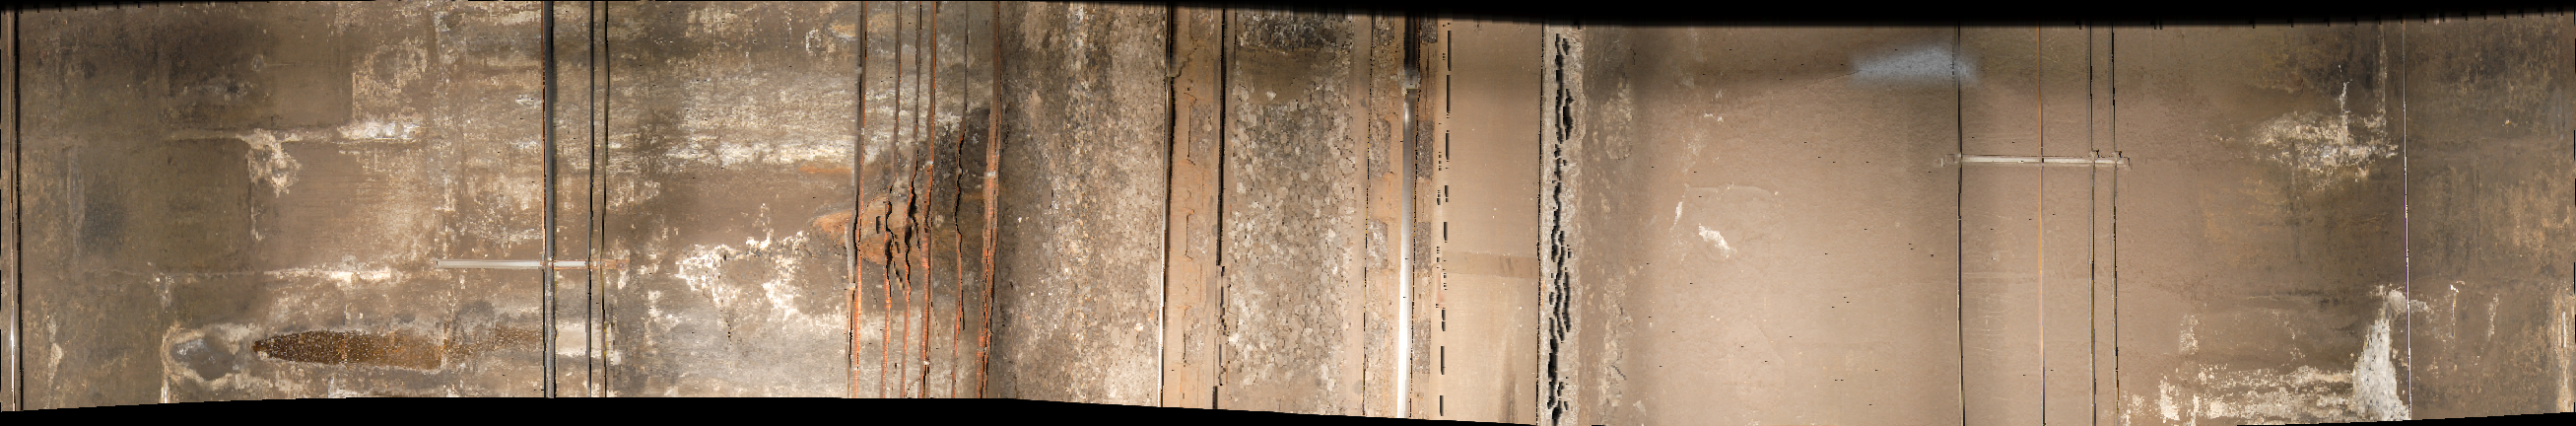pipes: (843, 7, 1010, 426), (534, 2, 619, 426), (2085, 21, 2131, 426), (1943, 20, 1975, 426), (2027, 21, 2058, 426)
tracks: (1157, 5, 1579, 426)
